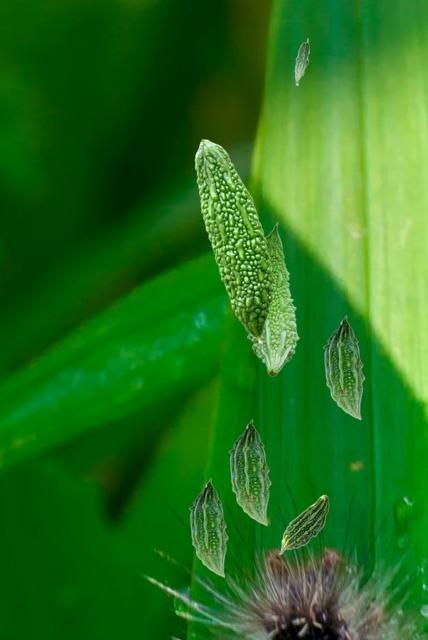ampalaya: (194, 138, 276, 347), (246, 221, 300, 377), (228, 419, 271, 526), (322, 315, 365, 420), (188, 478, 228, 577), (279, 494, 329, 555), (294, 38, 310, 86)
